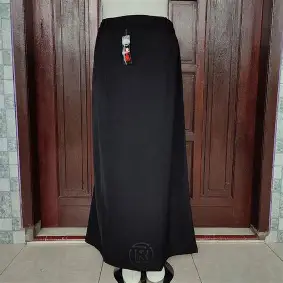rok_benar: (82, 18, 189, 260)
